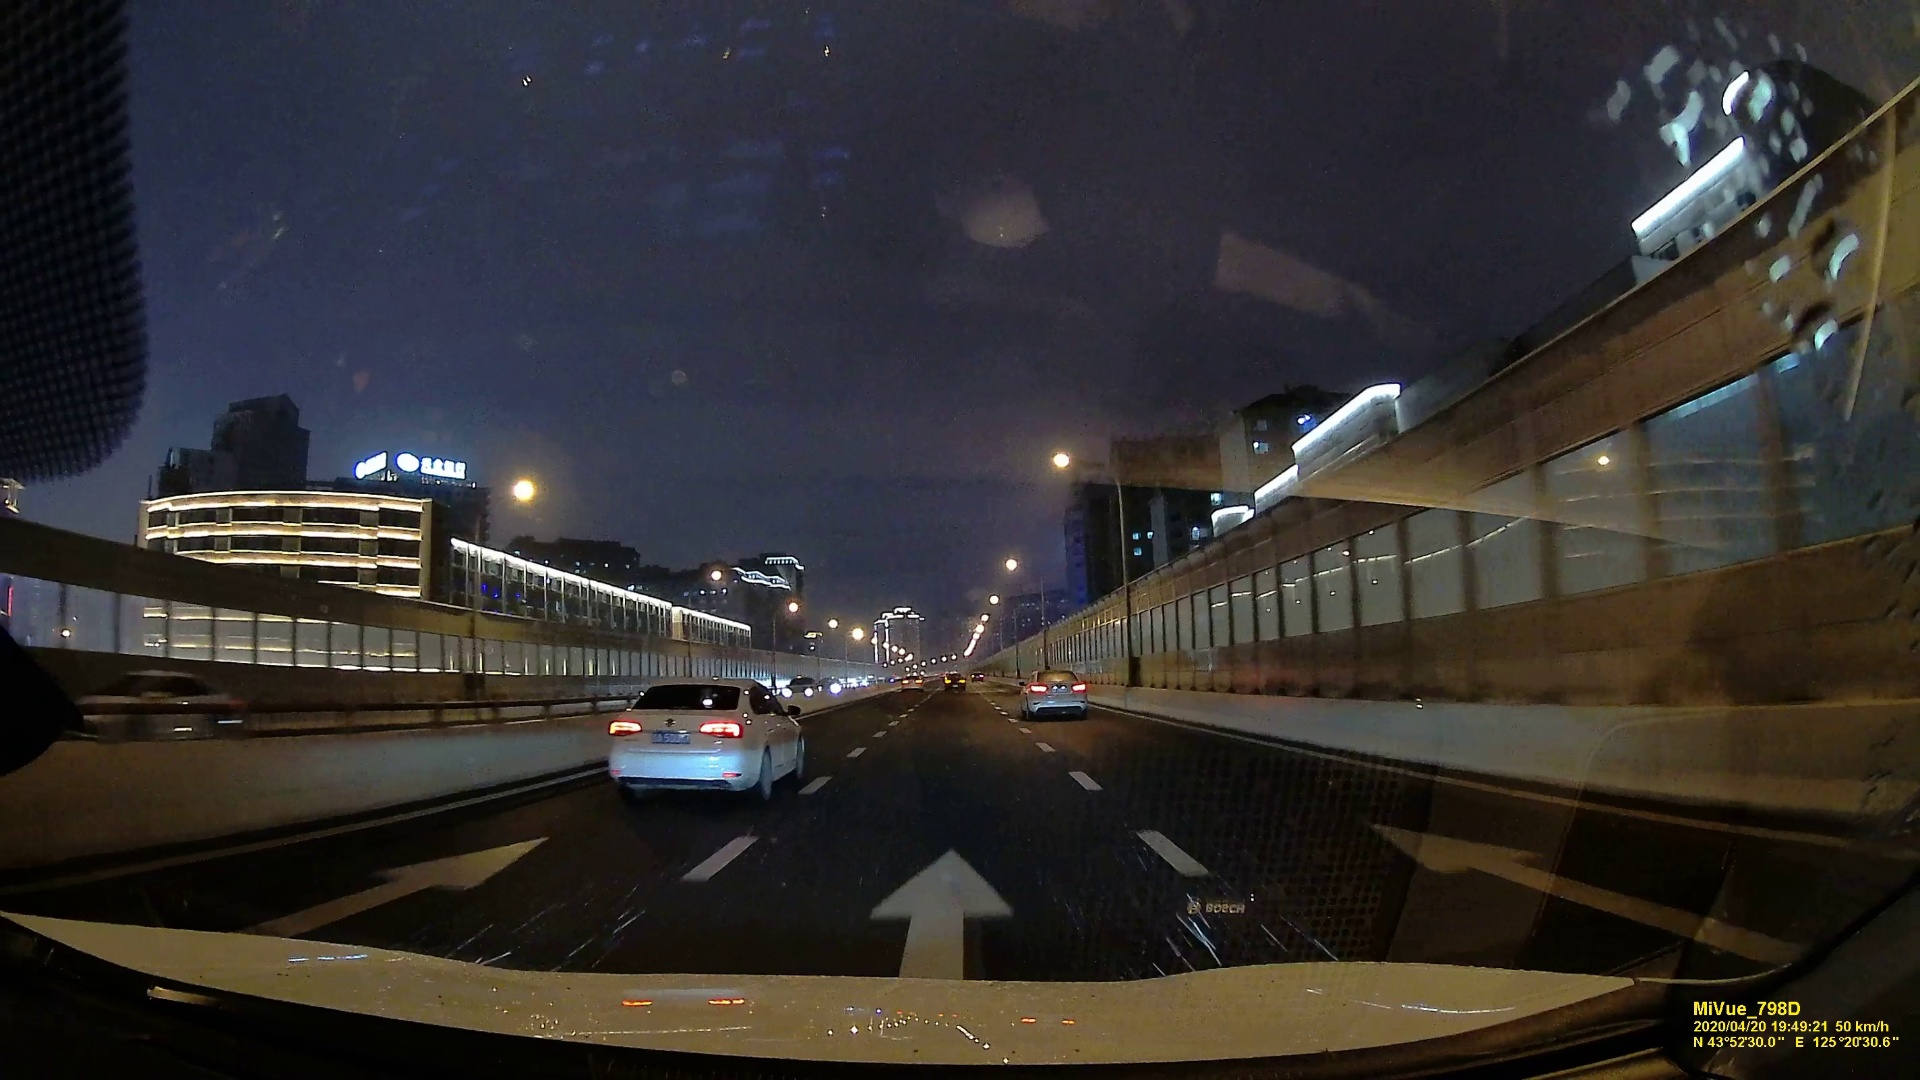vehicle: (603, 676, 812, 803), (1021, 669, 1087, 715), (782, 674, 820, 698), (943, 671, 967, 694), (901, 674, 924, 692)
